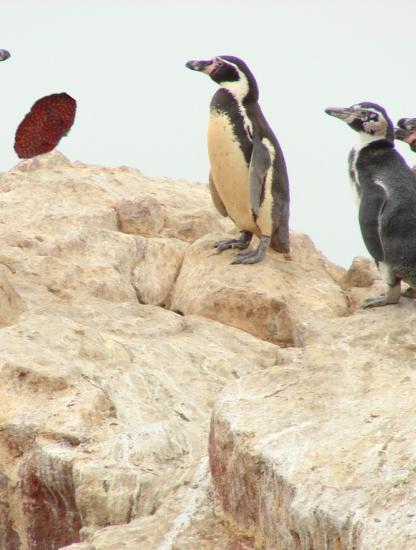Strawberry: (5, 87, 86, 168)
